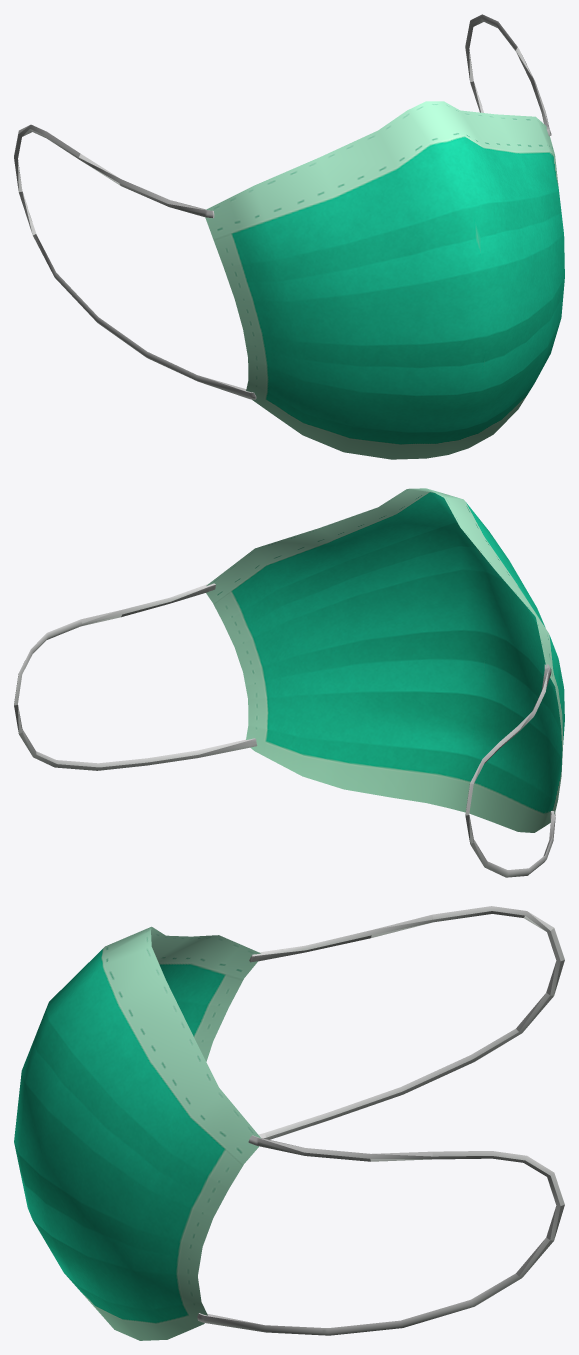
Rendered from Mask.fbx.
3 renders of one model, top to bottom at view 1: azimuth 30°, elevation 25°; view 2: azimuth 150°, elevation 25°; view 3: azimuth 270°, elevation 25°, orthographic. The views are drawn at different scales.
Visible parts, largest first — view 1: Mask; view 2: Mask; view 3: Mask.
Boxes of the visible parts, <box> form: Mask: <box>14,14,564,459</box>; Mask: <box>14,488,564,877</box>; Mask: <box>14,906,564,1340</box>.
Bounding box in the file's own units: 0.2281 × 0.1613 × 0.2152.
Materials: 1 (1 with a texture image).
